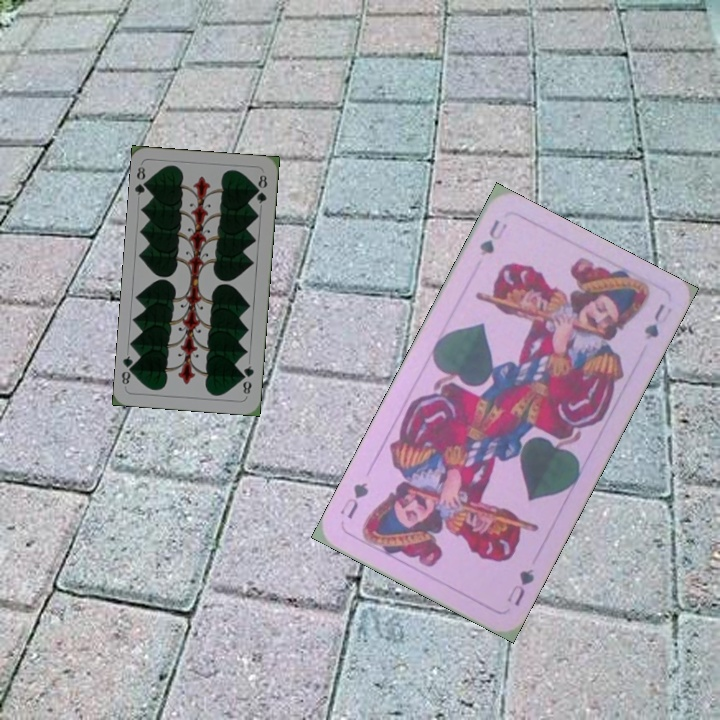G8: (131, 163, 152, 198), (238, 362, 257, 397)
GU: (503, 564, 537, 609), (475, 215, 510, 258)
